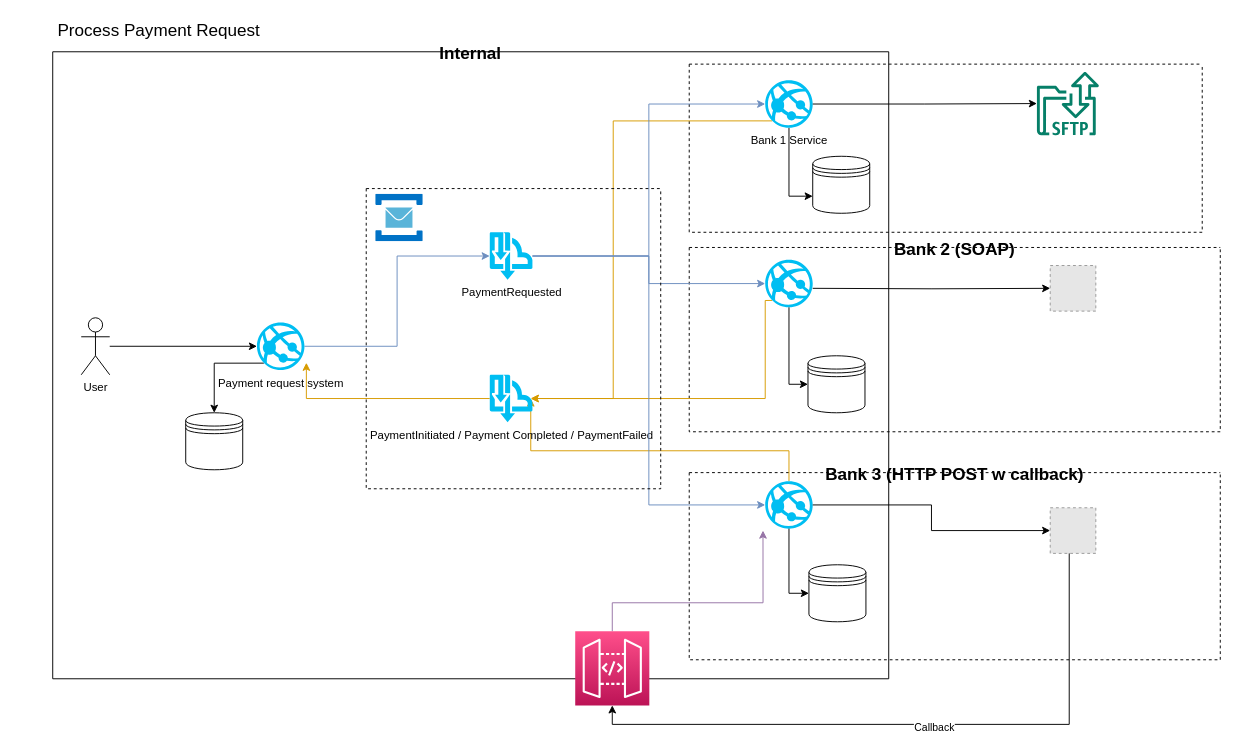
Image size: 1237x749. Some labels were removed from this diagram. Grey dashed boxes stand in for pictures. The box of each missing label's shape, as (x1, y1, x2, y2) in pixels:
API Gateway: (574, 630, 649, 705)
Bank 1 (SFTP): (688, 63, 1202, 232)
Bank 2 Service: (765, 259, 812, 307)
Bank 3 Service: (765, 481, 812, 528)
